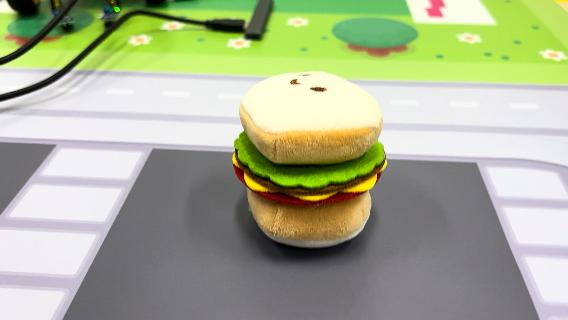sandwich: (230, 68, 390, 250)
